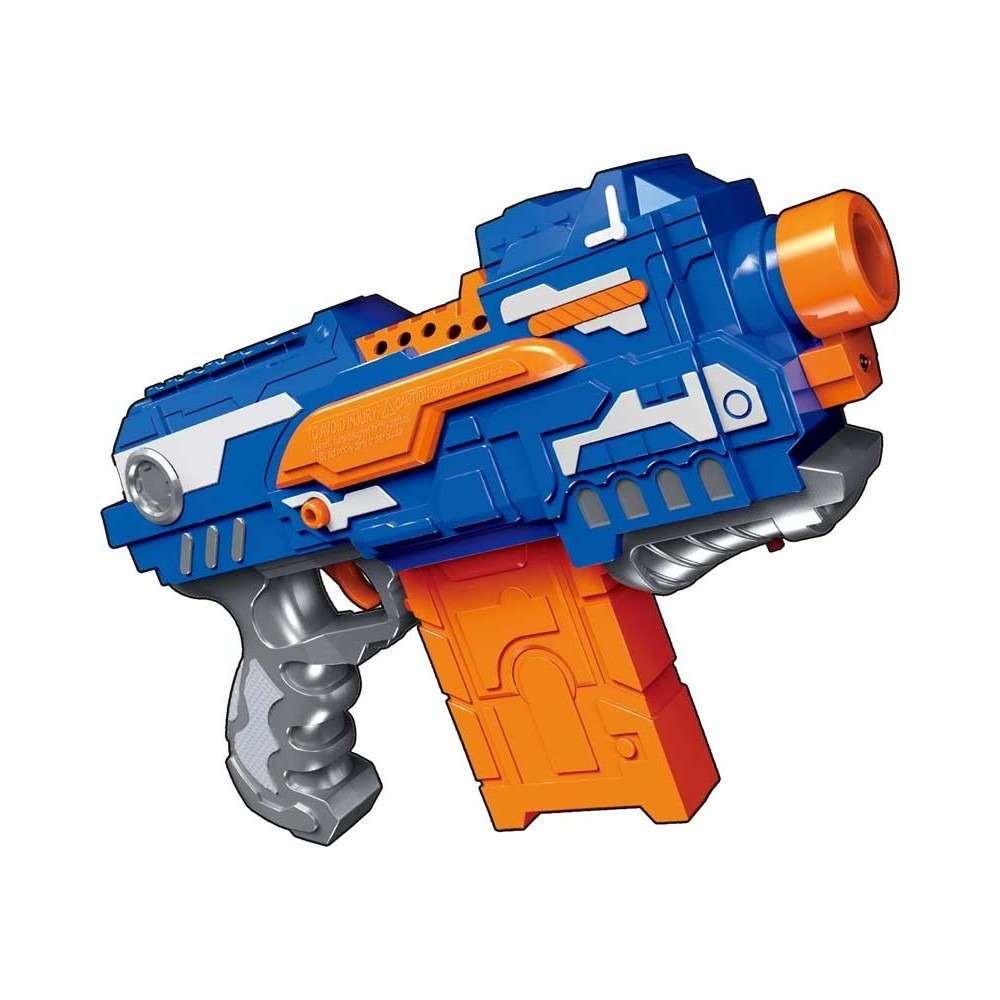Arma Falsa: (73, 151, 912, 842)
